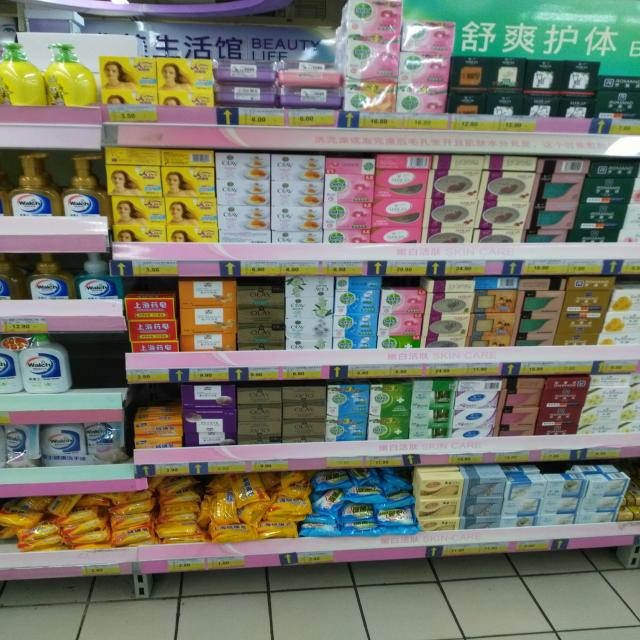empty: (66, 323, 131, 403)
